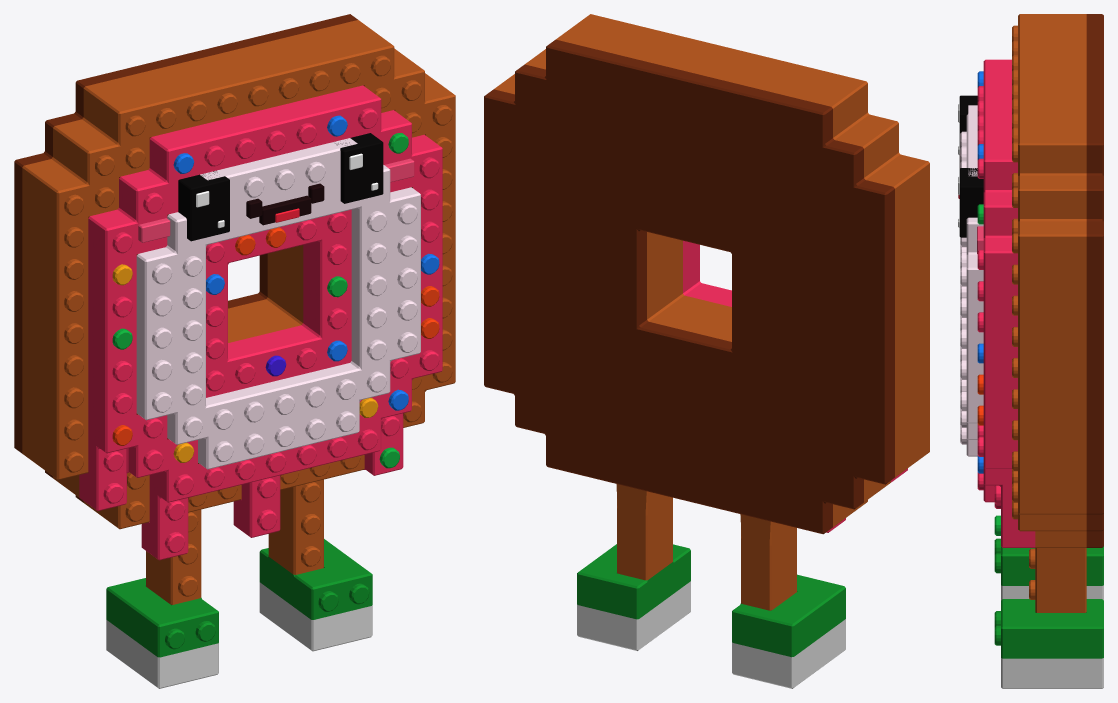
Rendered from brick_donut_square.obj.
3 renders of one model, left to right at view 1: azimuth 30°, elevation 25°; view 2: azimuth 150°, elevation 25°; view 3: azimuth 270°, elevation 25°, orthographic. The views are drawn at different scales.
Visible parts, largest first — view 1: Dough, Glaze, Crown, Shoe, Sole, Baked, Eye-1, Face, Eye1, Sprinkles1, Sprinkles4, Sprinkles3 (+1 smaller); view 2: Baked, Dough, Shoe, Sole, Glaze; view 3: Dough, Glaze, Baked, Shoe, Crown, Sole, Eye1, Eye-1, Sprinkles1, Sprinkles3, Sprinkles4.
Part boxes in pixels (box(x1,y1,x2,y2)): Dough: box(22, 20, 455, 604); Glaze: box(79, 85, 442, 560); Crown: box(136, 138, 420, 469); Shoe: box(106, 539, 372, 657); Sole: box(106, 582, 372, 688); Baked: box(14, 14, 412, 502); Eye-1: box(178, 170, 229, 241); Face: box(138, 158, 414, 242); Eye1: box(335, 133, 383, 203); Sprinkles1: box(173, 115, 439, 410); Sprinkles4: box(112, 227, 439, 445); Sprinkles3: box(112, 133, 408, 468); Baked: box(484, 39, 894, 534); Dough: box(494, 14, 929, 610); Shoe: box(577, 544, 845, 657); Sole: box(577, 581, 845, 688); Glaze: box(683, 240, 907, 532); Dough: box(1012, 14, 1086, 612); Glaze: box(977, 59, 1035, 547); Baked: box(1086, 14, 1103, 547); Shoe: box(994, 538, 1103, 658); Crown: box(960, 105, 983, 456); Sole: box(1001, 585, 1103, 688); Eye1: box(958, 168, 983, 237); Eye-1: box(958, 95, 977, 154); Sprinkles1: box(977, 71, 983, 473); Sprinkles3: box(977, 204, 1000, 535); Sprinkles4: box(977, 374, 983, 425).
Bounding box in the file's own units: 4.6 × 6.37 × 1.5.
